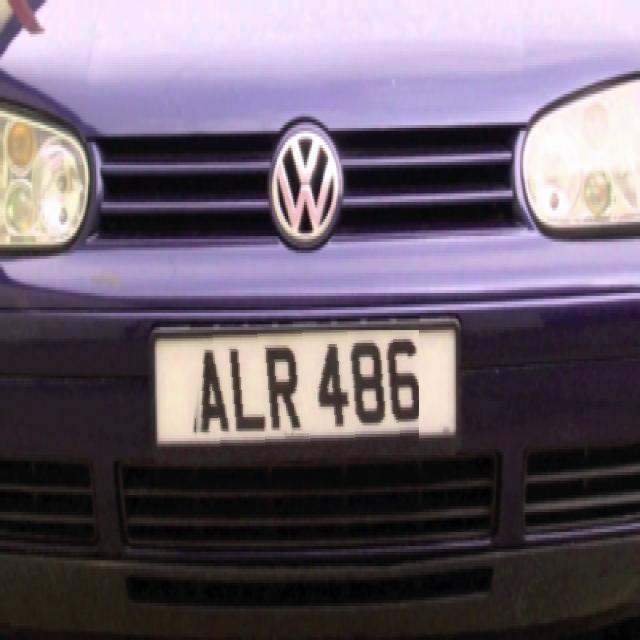licence: (189, 330, 419, 452)
